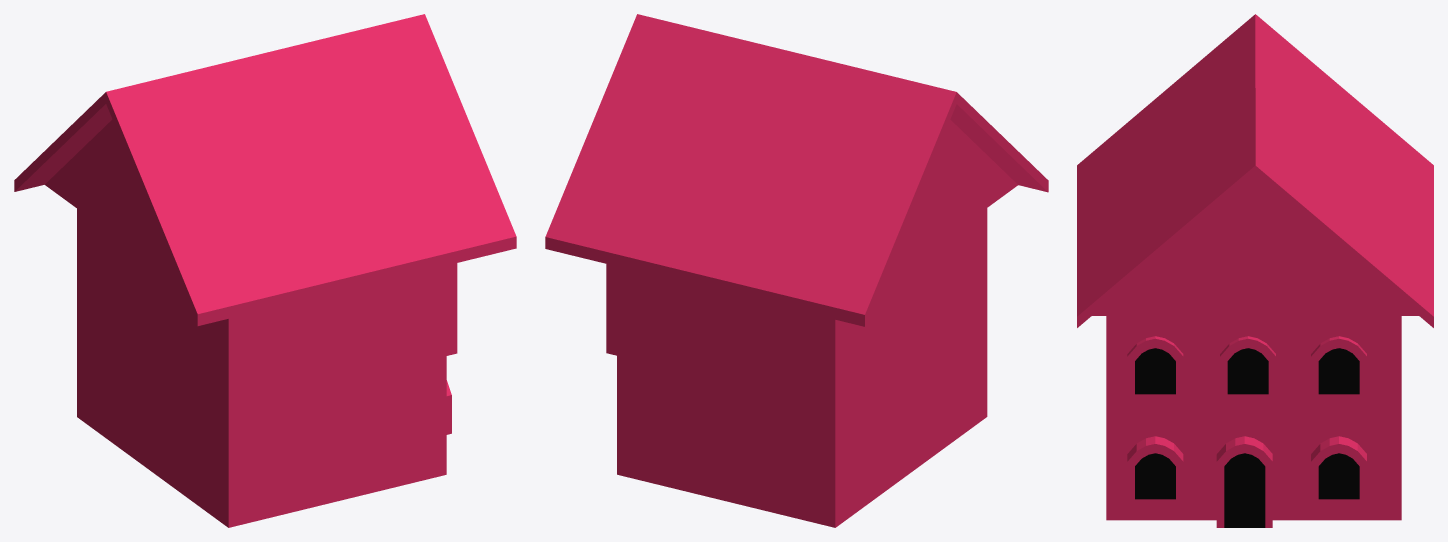
File: tavern01.glb
3 views of the same model, side by side, from view 1: azimuth 30°, elevation 25°; view 2: azimuth 150°, elevation 25°; view 3: azimuth 270°, elevation 25° (orthographic). The views are drawn at different scales.
Parts seen in each view (by area): view 1: Tower01; view 2: Tower01; view 3: Tower01.
Boxes of the visible parts, x1,y1,x2,y2 form: Tower01: (14,14,516,527); Tower01: (545,14,1048,527); Tower01: (1077,14,1433,527).
Size of the model in its own units: 1.81 by 2.13 by 1.81.
